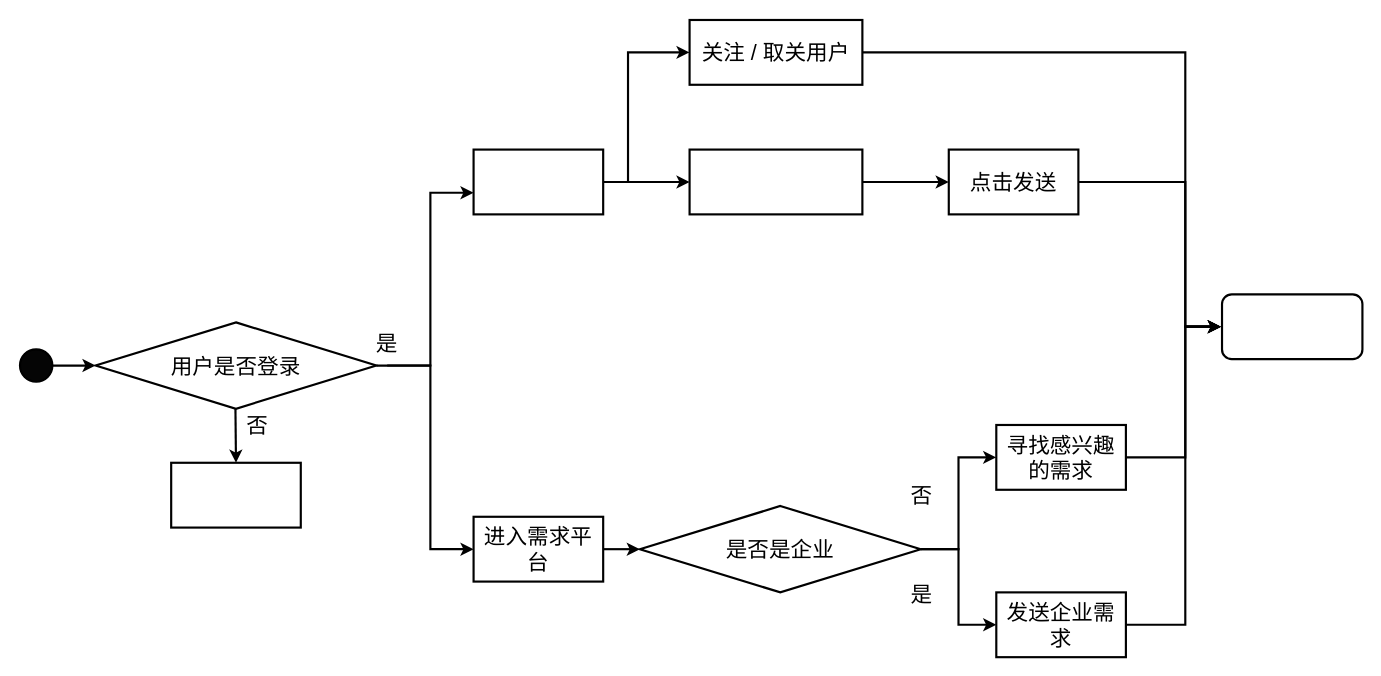
This 1381x676 diagram has some shape labels left out. Each missing label, with the centre of its shape:
"交互结束" belongs at point 1291,326.
"用户登录" belongs at point 235,494.
"编辑待发送消息" belongs at point 775,181.
"选择用户 / 企业" belongs at point 538,181.
